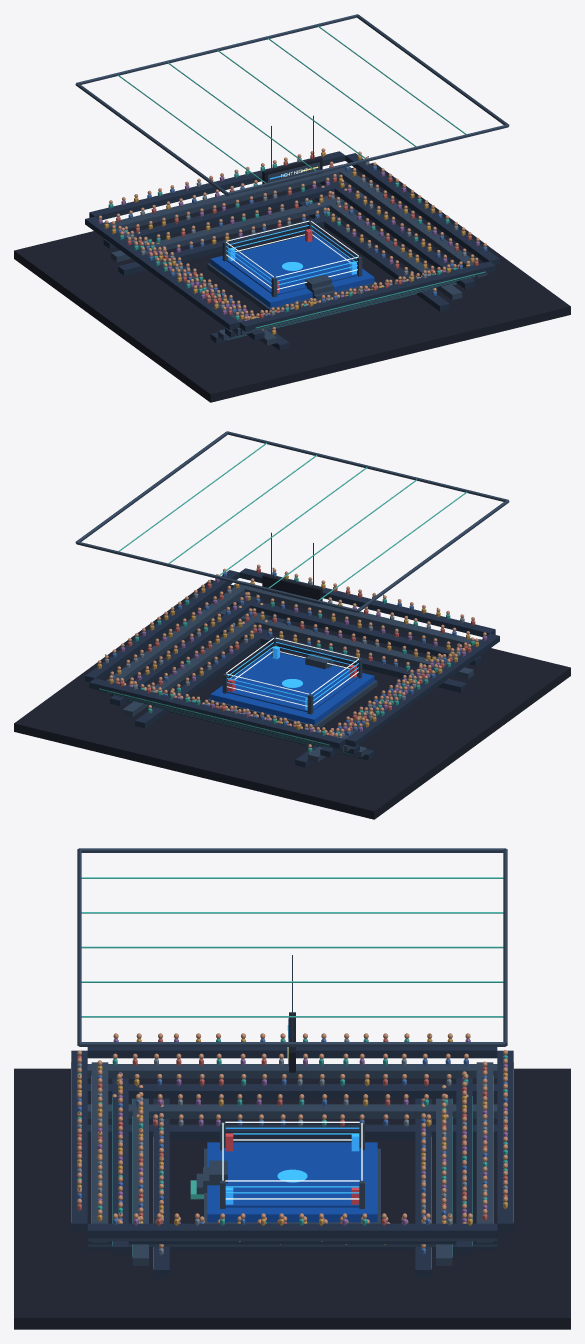
Rendered from boxing-arena.glb.
3 renders of one model, top to bottom at view 1: azimuth 30°, elevation 25°; view 2: azimuth 150°, elevation 25°; view 3: azimuth 270°, elevation 25°, orthographic. The views are drawn at different scales.
Parts seen in each view (by area): view 1: Arena floor, Crowd | combined low-poly fans, Canvas | bright blue, Grandstand tier.004, Apron | blue fascia, Grandstand tier.007, Grandstand tier.008, Grandstand tier.014, Grandstand tier.009, Grandstand tier.006, Grandstand tier.019, Grandstand tier.005 (+9 smaller); view 2: Arena floor, Crowd | combined low-poly fans, Canvas | bright blue, Grandstand tier.009, Apron | blue fascia, Grandstand tier.002, Grandstand tier.003, Grandstand tier.014, Grandstand tier.001, Grandstand tier.004, Grandstand tier.019, Grandstand tier.018 (+10 smaller); view 3: Arena floor, Crowd | combined low-poly fans, Canvas | bright blue, Grandstand tier.019, Grandstand tier.013, Grandstand tier.012, Grandstand tier.011, Grandstand tier.014, Apron | blue fascia, Grandstand tier.010, Grandstand tier.009, Grandstand tier.004 (+22 smaller).
Boxes of the visible parts, x1=… form: Arena floor: x1=14, y1=163, x2=570, y2=402; Crowd | combined low-poly fans: x1=98, y1=148, x2=487, y2=335; Canvas | bright blue: x1=226, y1=239, x2=357, y2=295; Grandstand tier.004: x1=239, y1=261, x2=495, y2=331; Apron | blue fascia: x1=210, y1=233, x2=374, y2=307; Grandstand tier.007: x1=103, y1=180, x2=355, y2=248; Grandstand tier.008: x1=105, y1=167, x2=352, y2=229; Grandstand tier.014: x1=85, y1=216, x2=239, y2=329; Grandstand tier.009: x1=89, y1=151, x2=345, y2=219; Grandstand tier.006: x1=111, y1=192, x2=366, y2=262; Grandstand tier.019: x1=345, y1=153, x2=499, y2=265; Grandstand tier.005: x1=118, y1=208, x2=365, y2=275; Arena floor: x1=14, y1=579, x2=570, y2=819; Crowd | combined low-poly fans: x1=97, y1=564, x2=487, y2=752; Canvas | bright blue: x1=227, y1=656, x2=358, y2=712; Grandstand tier.009: x1=89, y1=678, x2=345, y2=748; Apron | blue fascia: x1=210, y1=650, x2=374, y2=724; Grandstand tier.002: x1=229, y1=598, x2=481, y2=665; Grandstand tier.003: x1=232, y1=584, x2=474, y2=647; Grandstand tier.014: x1=345, y1=633, x2=499, y2=746; Grandstand tier.001: x1=219, y1=609, x2=473, y2=679; Grandstand tier.004: x1=239, y1=568, x2=495, y2=636; Grandstand tier.019: x1=85, y1=570, x2=239, y2=682; Grandstand tier.018: x1=97, y1=581, x2=249, y2=694; Arena floor: x1=14, y1=1068, x2=570, y2=1329; Crowd | combined low-poly fans: x1=77, y1=1033, x2=507, y2=1255; Canvas | bright blue: x1=223, y1=1147, x2=361, y2=1207; Grandstand tier.019: x1=87, y1=1223, x2=497, y2=1238; Grandstand tier.013: x1=87, y1=1064, x2=497, y2=1078; Grandstand tier.012: x1=87, y1=1084, x2=497, y2=1098; Grandstand tier.011: x1=87, y1=1104, x2=497, y2=1118; Grandstand tier.014: x1=87, y1=1047, x2=497, y2=1058; Apron | blue fascia: x1=207, y1=1142, x2=377, y2=1222; Grandstand tier.010: x1=87, y1=1124, x2=497, y2=1139; Grandstand tier.009: x1=497, y1=1050, x2=513, y2=1231; Grandstand tier.004: x1=71, y1=1050, x2=87, y2=1231.
Bounding box in the file's own units: 36 × 17.51 × 34.
